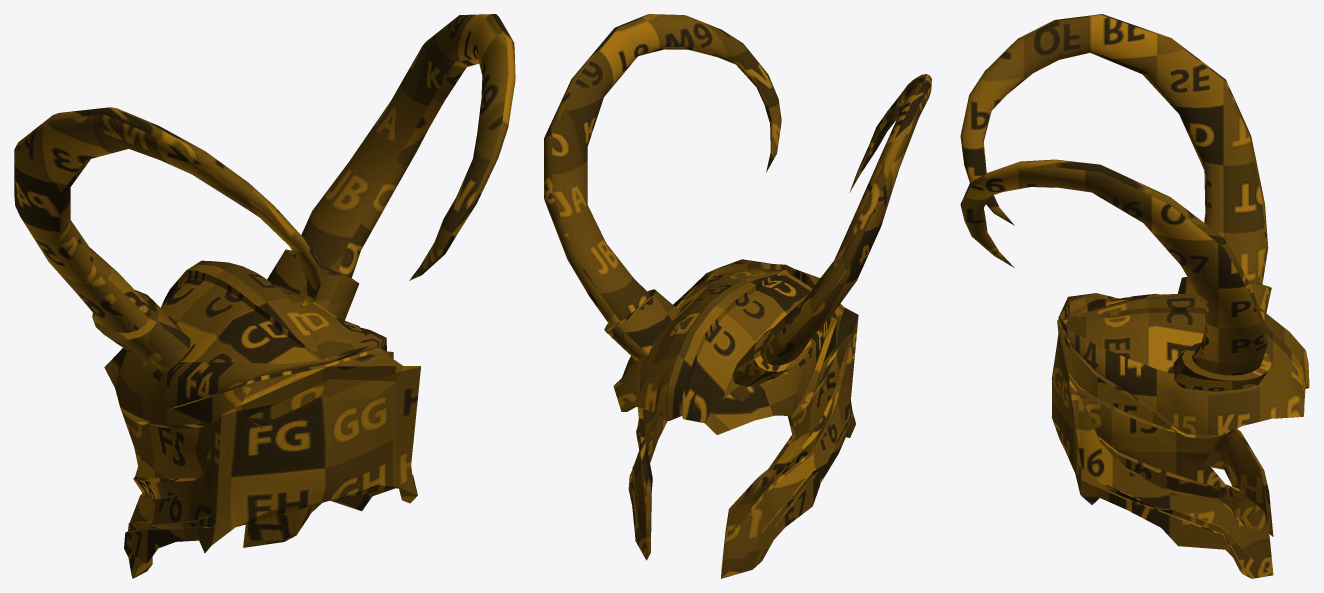
Rendered from LokiHelmet.fbx.
The picture shows the model from 3 angles, left to right: view 1: azimuth 30°, elevation 25°; view 2: azimuth 150°, elevation 25°; view 3: azimuth 270°, elevation 25°; orthographic projection. The views are drawn at different scales.
Visible parts, largest first — view 1: Helmet, Horn4, Horn6; view 2: Helmet, Horn4, Horn6; view 3: Helmet, Horn6, Horn4.
Part boxes in pixels (<box>): Helmet: <box>104,260,420,578</box>; Horn4: <box>267,14,515,320</box>; Horn6: <box>14,107,321,370</box>; Helmet: <box>613,259,858,578</box>; Horn4: <box>544,14,781,360</box>; Horn6: <box>732,74,931,387</box>; Helmet: <box>1051,293,1309,578</box>; Horn6: <box>960,14,1271,312</box>; Horn4: <box>960,159,1271,391</box>.
Size of the model in its own units: 5.9 by 7.62 by 5.17.
Materials: 1 (1 with a texture image).
